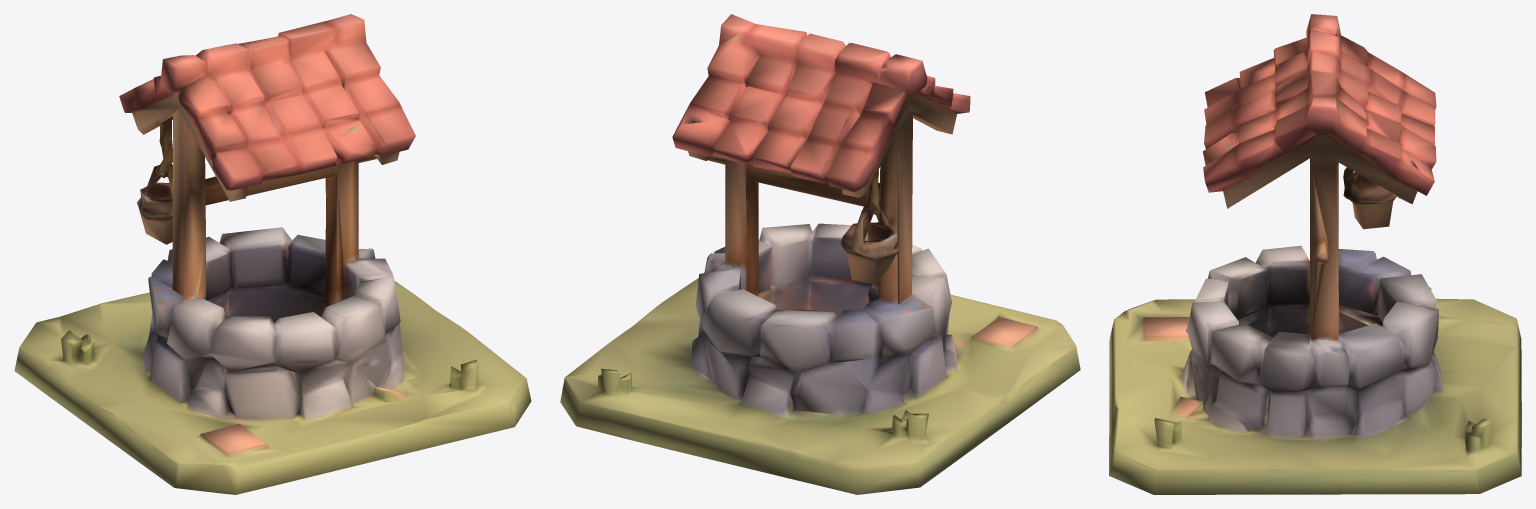
File: kuyu.glb
3 views of the same model, side by side, from view 1: azimuth 30°, elevation 25°; view 2: azimuth 150°, elevation 25°; view 3: azimuth 270°, elevation 25° (orthographic).
Parts seen in each view (by area): view 1: node_0; view 2: node_0; view 3: node_0.
Boxes of the visible parts, box(x1,y1,x2,y2) form: node_0: box(14, 14, 531, 494); node_0: box(560, 14, 1080, 494); node_0: box(1109, 14, 1521, 494).
Bounding box in the file's own units: 0.7641 × 0.707 × 0.7643.
1 material, 1 textured.
